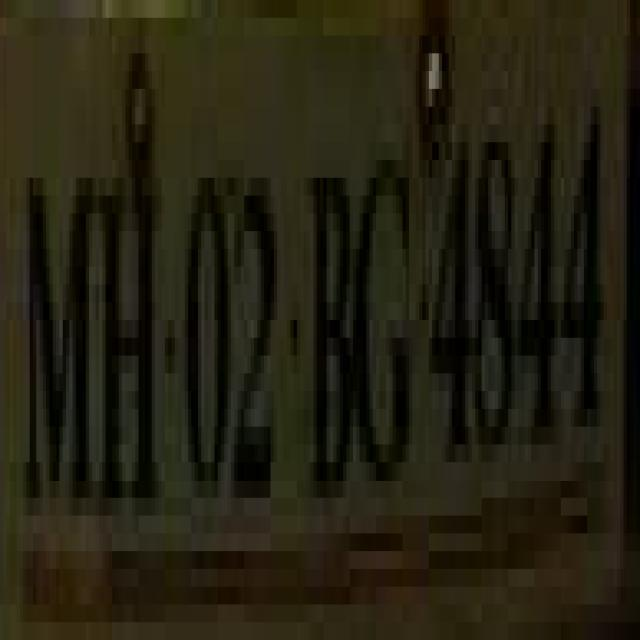license_plate: (20, 35, 640, 569)
